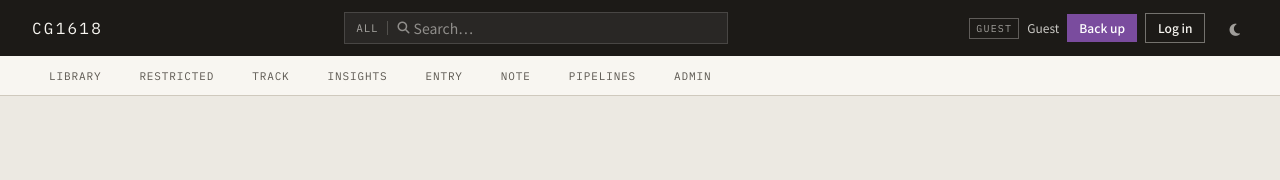
Test: Nav gated types › offers no H-Game link to a session that sees only h-comic
Click the button "Restricted": (177,76) x1=122 y1=56 x2=231 y2=96
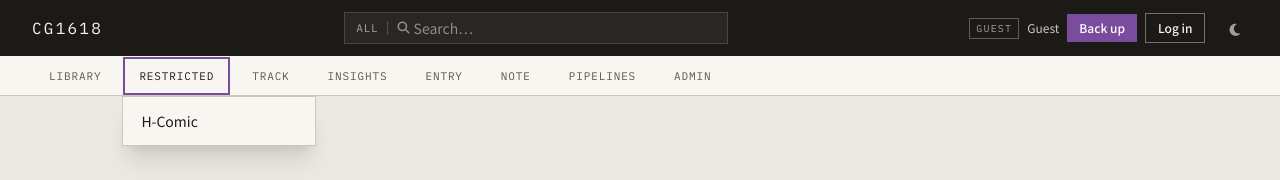
Check: the link "H-Comic" is shown, box x1=141 y1=111 x2=198 y2=131
